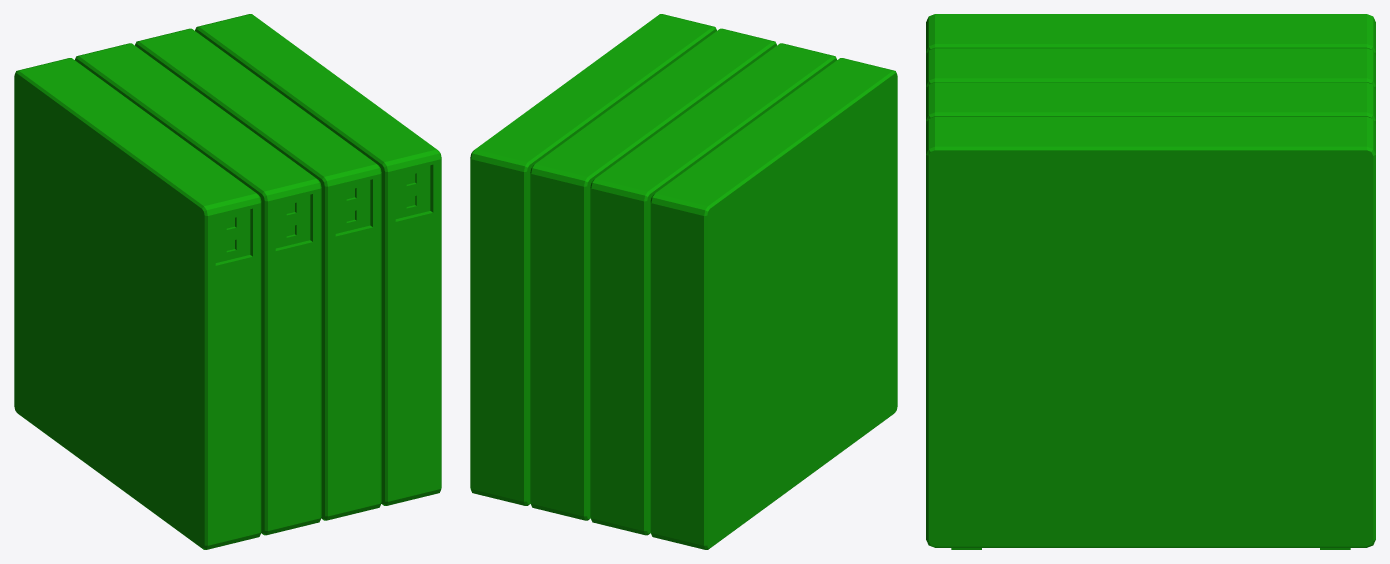
The model's file is EP12-battery-stack.obj.
3 views of the same model, side by side, from view 1: azimuth 30°, elevation 25°; view 2: azimuth 150°, elevation 25°; view 3: azimuth 270°, elevation 25° (orthographic). The views are drawn at different scales.
Visible parts, largest first — view 1: EP12_Side-by-Side_-_Module_01, EP12_Side-by-Side_-_Module_02, EP12_Side-by-Side_-_Module_03, EP12_Side-by-Side_-_Module_04; view 2: EP12_Side-by-Side_-_Module_01, EP12_Side-by-Side_-_Module_02, EP12_Side-by-Side_-_Module_03, EP12_Side-by-Side_-_Module_04; view 3: EP12_Side-by-Side_-_Module_04, EP12_Side-by-Side_-_Module_01, EP12_Side-by-Side_-_Module_03, EP12_Side-by-Side_-_Module_02.
Part boxes in pixels (x1=…): EP12_Side-by-Side_-_Module_01: x1=14, y1=58, x2=261, y2=549; EP12_Side-by-Side_-_Module_02: x1=75, y1=43, x2=321, y2=535; EP12_Side-by-Side_-_Module_03: x1=135, y1=28, x2=381, y2=520; EP12_Side-by-Side_-_Module_04: x1=195, y1=14, x2=441, y2=505; EP12_Side-by-Side_-_Module_01: x1=650, y1=58, x2=897, y2=549; EP12_Side-by-Side_-_Module_02: x1=590, y1=43, x2=836, y2=535; EP12_Side-by-Side_-_Module_03: x1=530, y1=28, x2=776, y2=520; EP12_Side-by-Side_-_Module_04: x1=470, y1=14, x2=716, y2=505; EP12_Side-by-Side_-_Module_04: x1=926, y1=116, x2=1375, y2=549; EP12_Side-by-Side_-_Module_01: x1=926, y1=14, x2=1375, y2=55; EP12_Side-by-Side_-_Module_03: x1=926, y1=82, x2=1375, y2=124; EP12_Side-by-Side_-_Module_02: x1=926, y1=48, x2=1375, y2=89.
Size of the model in its own units: 0.355 by 0.5 by 0.5.
